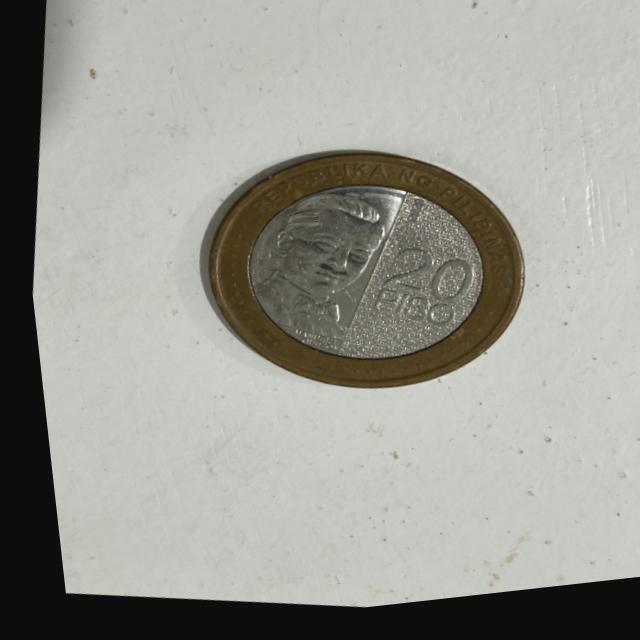20_New_Front: (352, 241, 470, 354)
